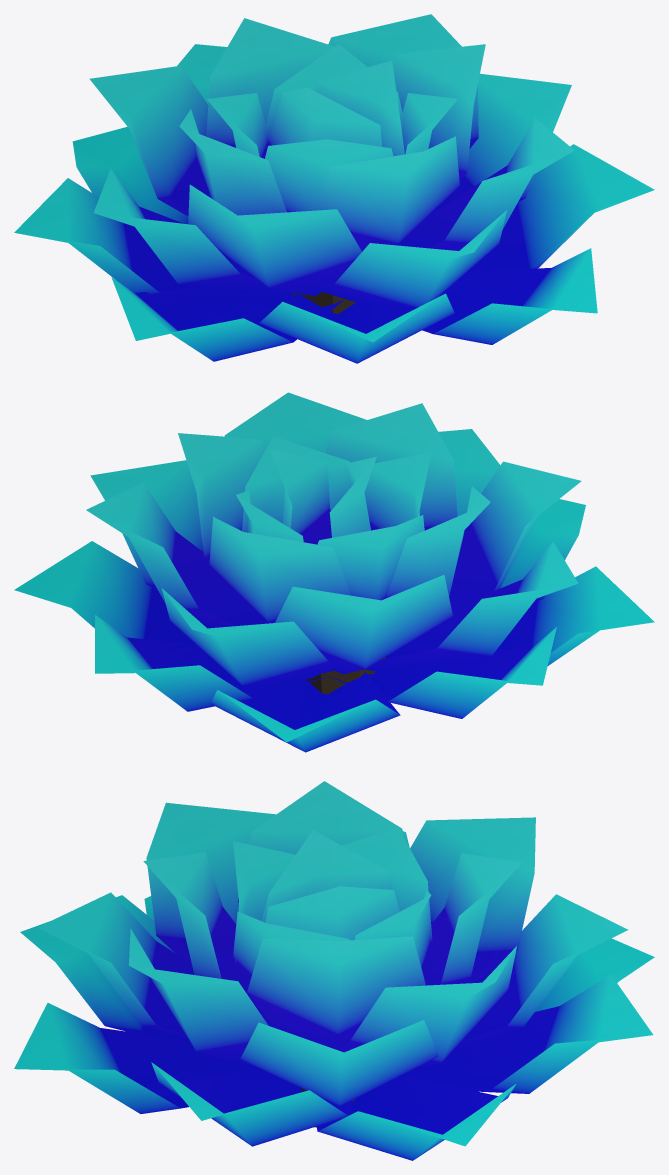
Rendered from SM_Env_Succulent_01_Single_01.fbx.
3 renders of one model, top to bottom at view 1: azimuth 30°, elevation 25°; view 2: azimuth 150°, elevation 25°; view 3: azimuth 270°, elevation 25°, orthographic. The views are drawn at different scales.
Parts seen in each view (by area): view 1: SM_Env_Succulent_01_Single_01_LOD0; view 2: SM_Env_Succulent_01_Single_01_LOD0; view 3: SM_Env_Succulent_01_Single_01_LOD0.
Boxes of the visible parts, x1,y1,x2,y2 form: SM_Env_Succulent_01_Single_01_LOD0: (14, 14, 654, 363); SM_Env_Succulent_01_Single_01_LOD0: (14, 392, 654, 752); SM_Env_Succulent_01_Single_01_LOD0: (14, 781, 654, 1160).
Size of what is drawn, in the model's own units: 57.69 by 27.78 by 57.65.
